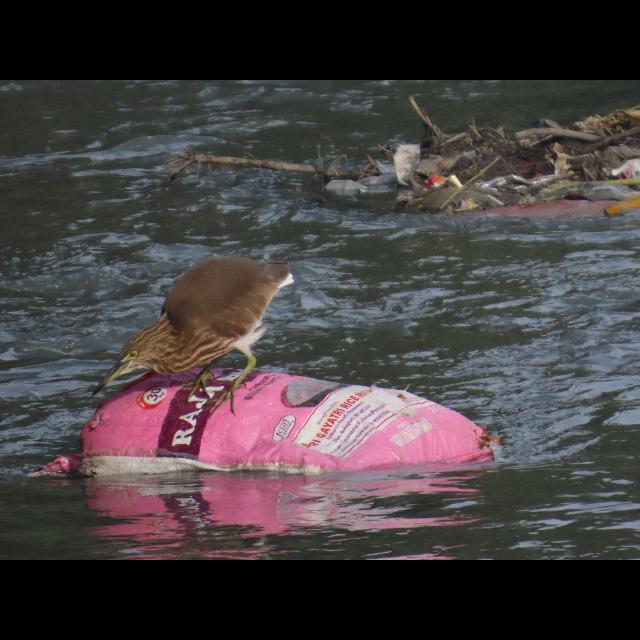heron: (82, 244, 300, 406)
